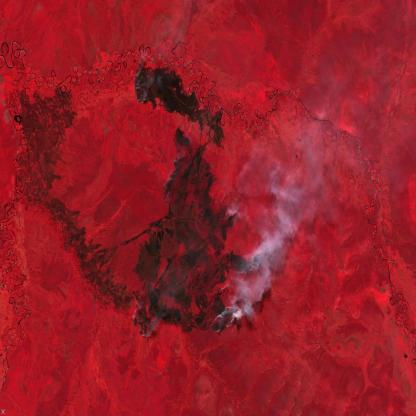fire: (212, 211, 263, 338), (160, 128, 183, 207), (132, 301, 159, 342), (131, 57, 150, 107)
